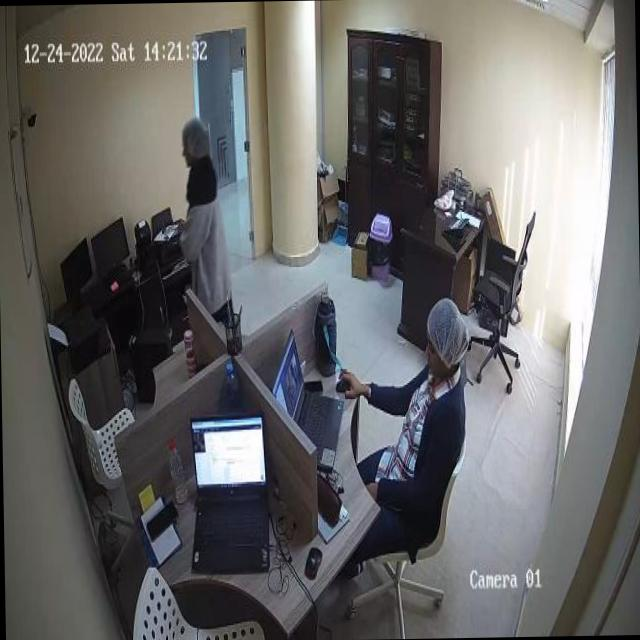hairnet: (428, 303, 469, 362), (184, 116, 209, 158)
